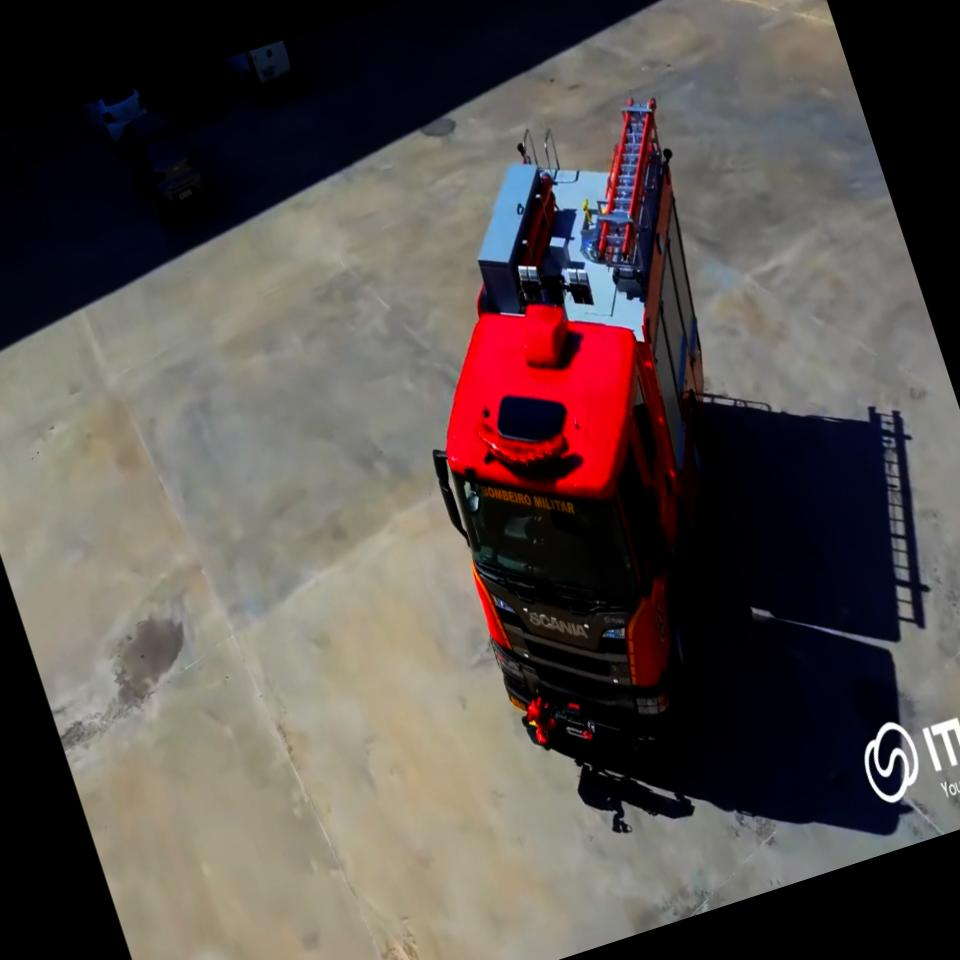viatura: (334, 66, 851, 794)
